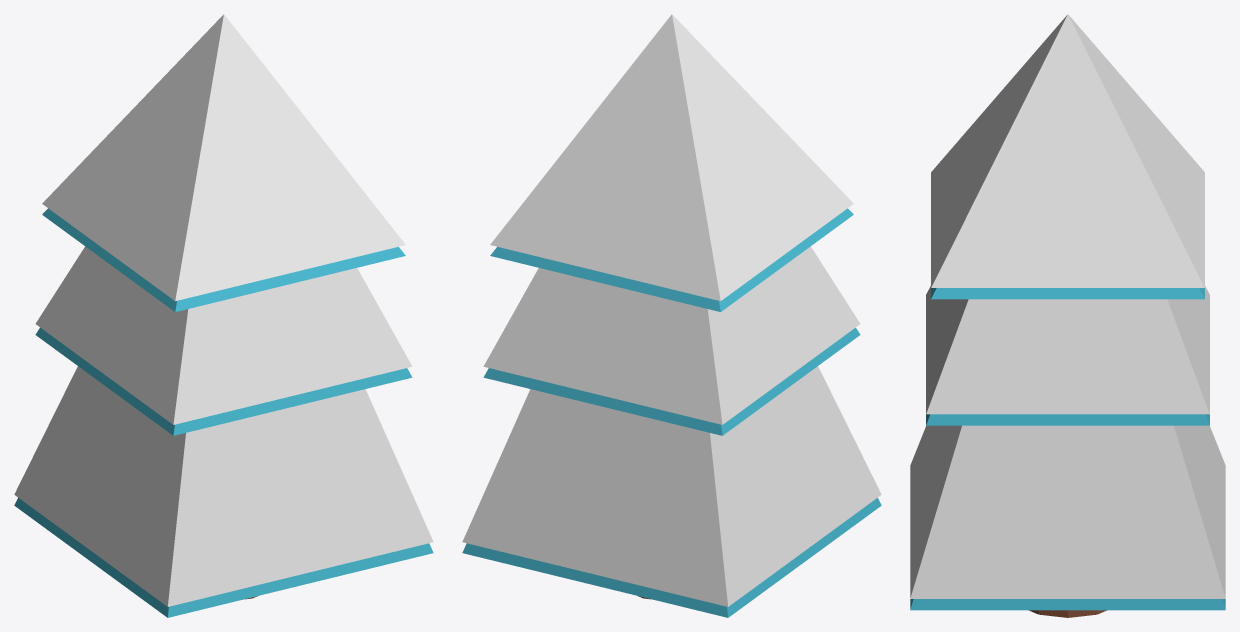
File: Tree_18_winter_blue_pal.fbx
The picture shows the model from 3 angles, left to right: view 1: azimuth 30°, elevation 25°; view 2: azimuth 150°, elevation 25°; view 3: azimuth 270°, elevation 25°; orthographic projection. The views are drawn at different scales.
Visible parts, largest first — view 1: Tree_18_winter_blue_pal; view 2: Tree_18_winter_blue_pal; view 3: Tree_18_winter_blue_pal.
Part boxes in pixels (x1,y1,x2,y2): Tree_18_winter_blue_pal: (14, 14, 433, 617); Tree_18_winter_blue_pal: (462, 14, 881, 617); Tree_18_winter_blue_pal: (910, 14, 1225, 617).
Size of the model in its own units: 95.96 by 194 by 95.96.
